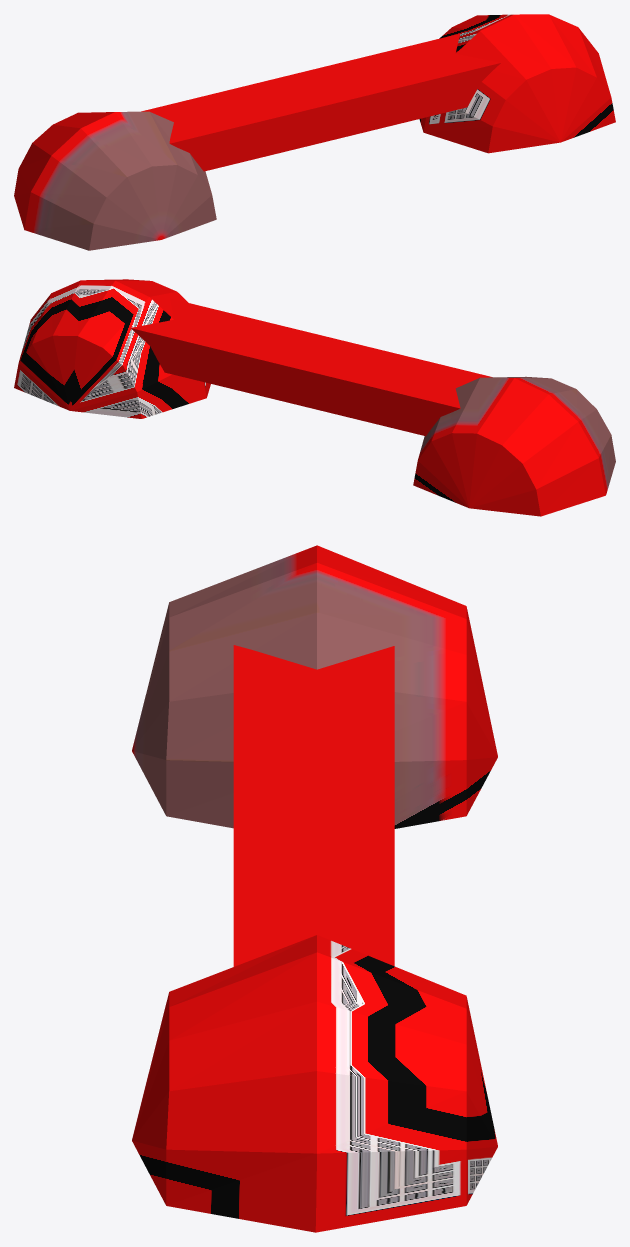
The model's file is Handle.glb.
3 views of the same model, one above another, from view 1: azimuth 30°, elevation 25°; view 2: azimuth 150°, elevation 25°; view 3: azimuth 270°, elevation 25° (orthographic). The views are drawn at different scales.
Parts seen in each view (by area): view 1: Handle; view 2: Handle; view 3: Handle.
Boxes of the visible parts, <box> form: Handle: <box>14,14,615,250</box>; Handle: <box>14,279,615,516</box>; Handle: <box>132,545,497,1232</box>.
Size of the model in its own units: 26.26 by 4.19 by 7.16.
1 material, 1 textured.
